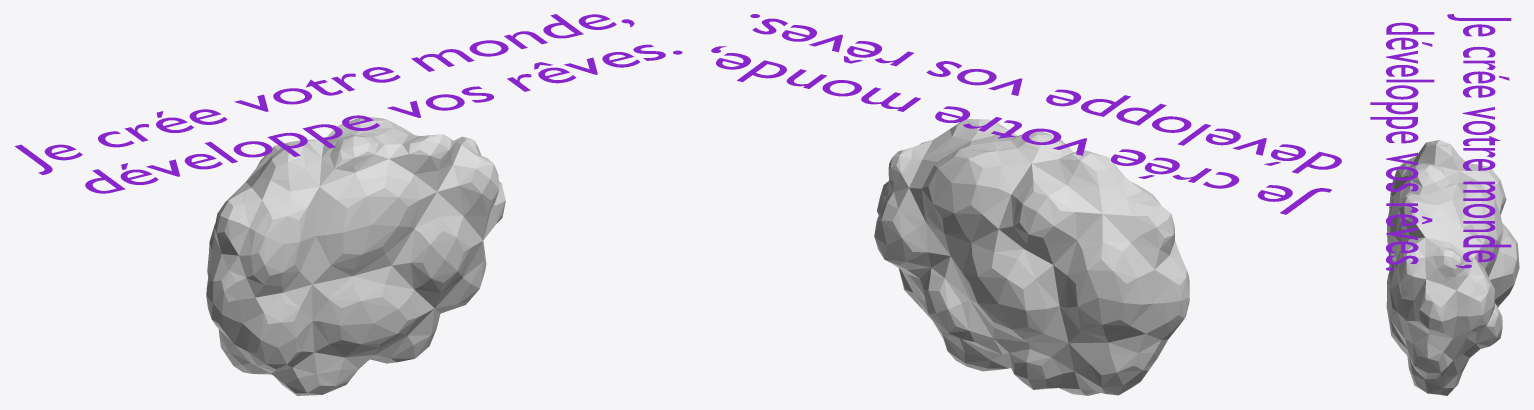
Rendered from Nuage+txt.glb.
3 views of the same model, side by side, from view 1: azimuth 30°, elevation 25°; view 2: azimuth 150°, elevation 25°; view 3: azimuth 270°, elevation 25° (orthographic). The views are drawn at different scales.
Parts seen in each view (by area): view 1: Object_3 2, Texte; view 2: Object_3 2, Texte; view 3: Object_3 2, Texte.
Part boxes in pixels (left/top/right/bottom): Object_3 2: left=206, top=117, right=505, bottom=395; Texte: left=14, top=14, right=682, bottom=193; Object_3 2: left=874, top=119, right=1189, bottom=395; Texte: left=711, top=14, right=1341, bottom=214; Object_3 2: left=1386, top=140, right=1519, bottom=395; Texte: left=1370, top=14, right=1511, bottom=270.
Bounding box in the file's own units: 37.28 × 16.04 × 9.15.
